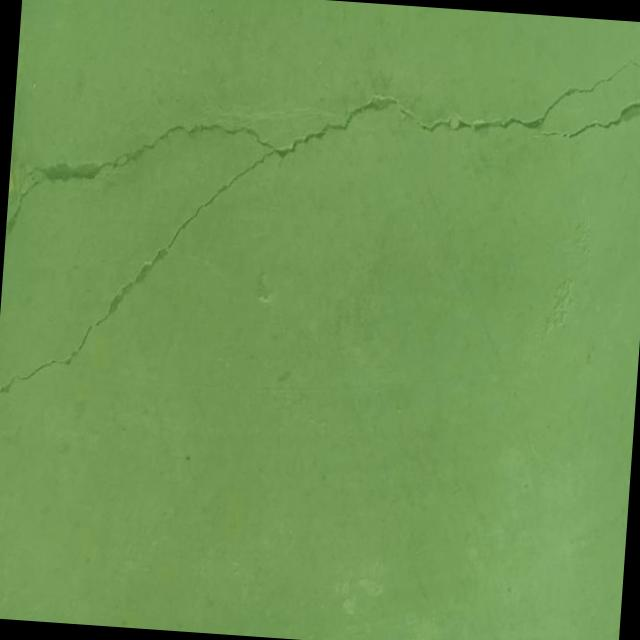crack: (0, 16, 639, 437), (530, 85, 640, 146)
